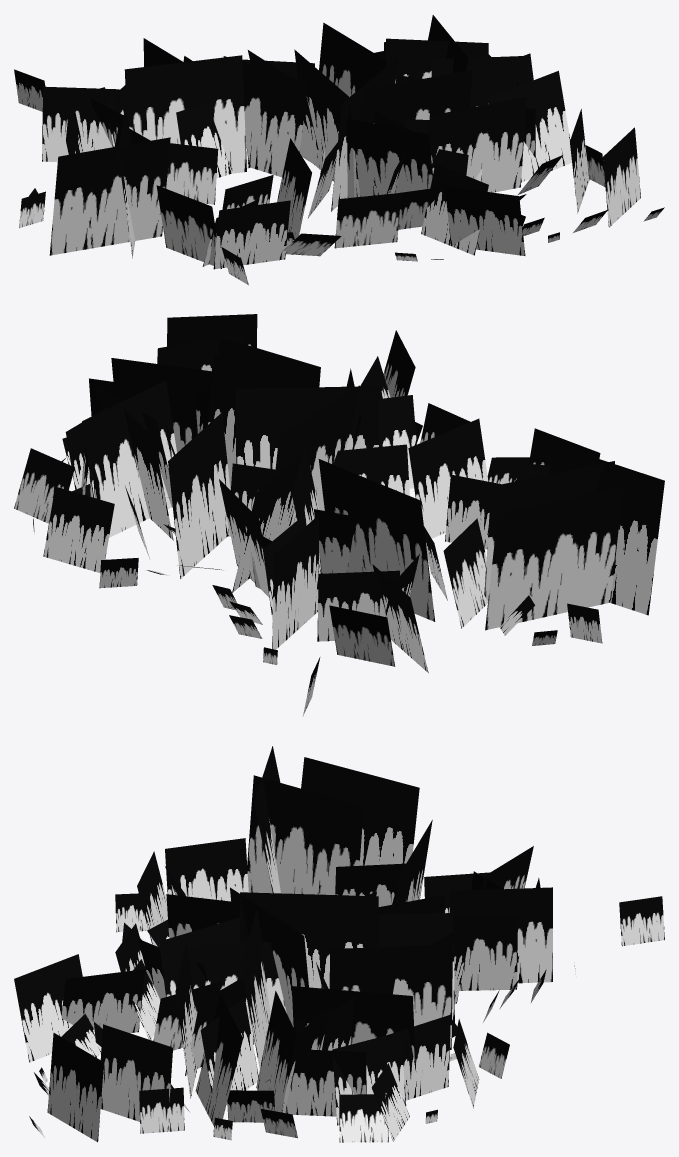
The model's file is Grass.fbx.
3 renders of one model, top to bottom at view 1: azimuth 30°, elevation 25°; view 2: azimuth 150°, elevation 25°; view 3: azimuth 270°, elevation 25°, orthographic. The views are drawn at different scales.
Visible parts, largest first — view 1: Plane.072; view 2: Plane.072; view 3: Plane.072.
Boxes of the visible parts, left/top/right/bottom form: Plane.072: left=14, top=15, right=664, bottom=285; Plane.072: left=14, top=314, right=664, bottom=715; Plane.072: left=14, top=746, right=664, bottom=1142.
Size of the model in its own units: 247 by 54.37 by 245.
